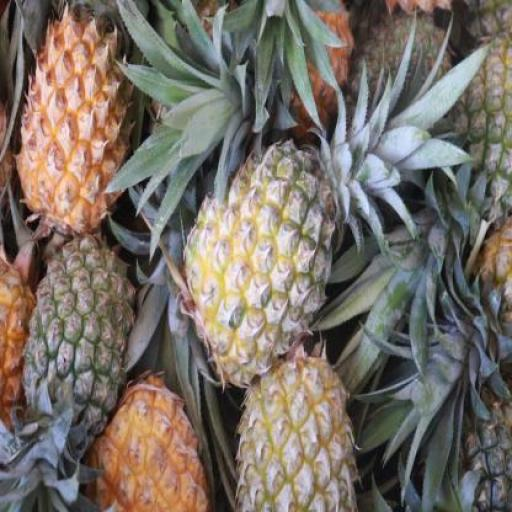------------------------------: (183, 137, 335, 385), (234, 346, 358, 512)
Pineapple - v8 v1: (16, 8, 128, 236), (85, 370, 205, 511)
